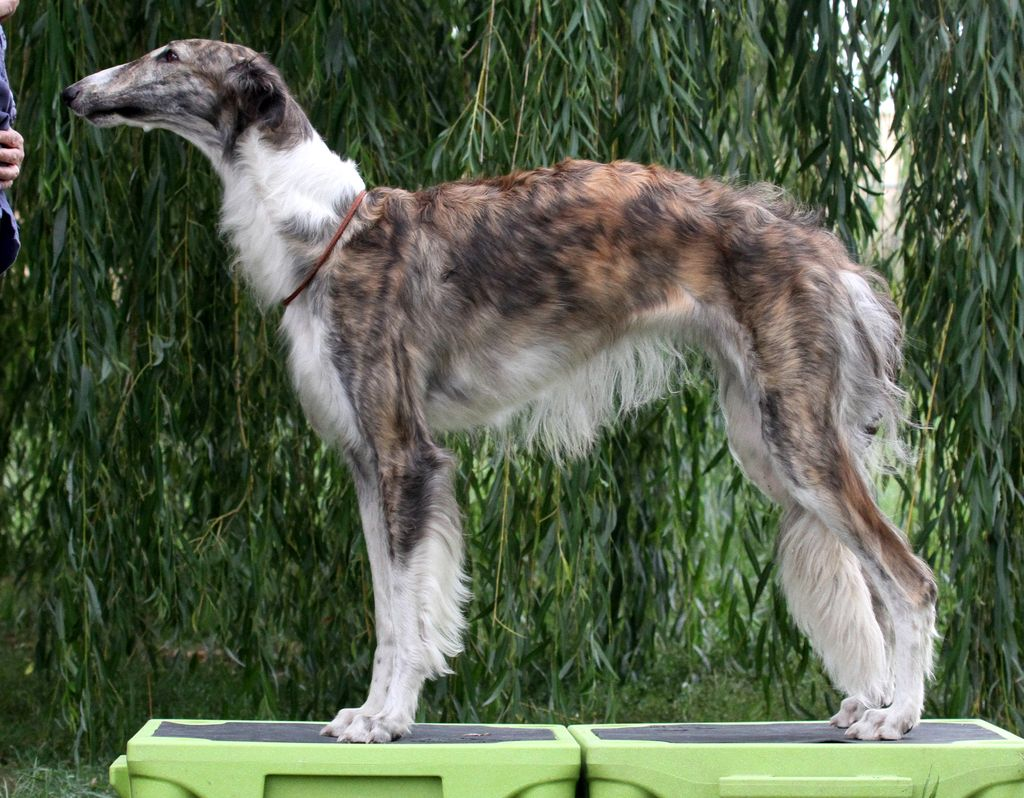borzoi: (61, 30, 937, 747)
